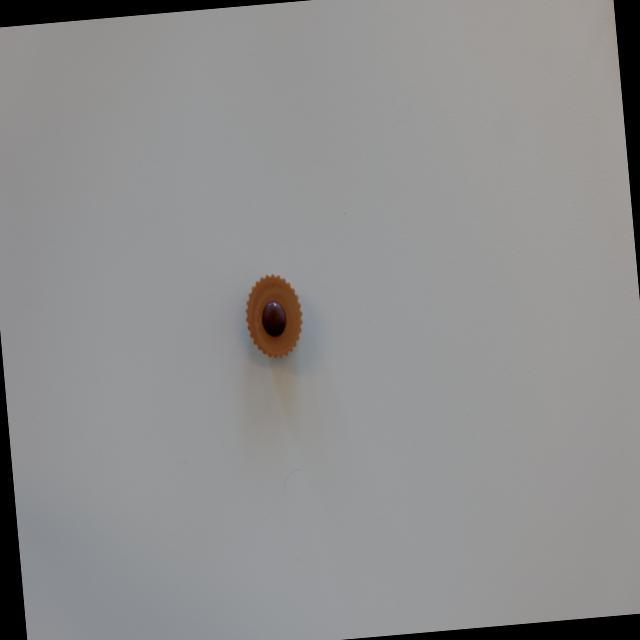Noblesse: (242, 272, 305, 362)
